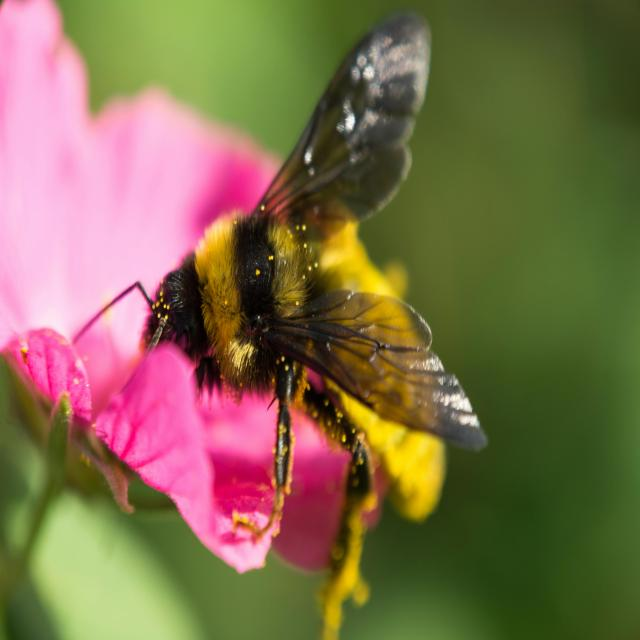bee: (67, 13, 488, 640)
